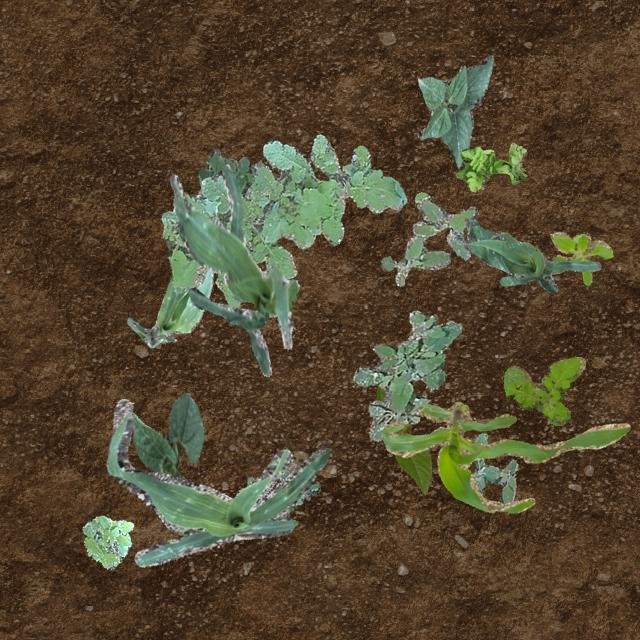crop: (105, 398, 328, 566), (168, 164, 298, 376), (382, 401, 630, 512), (464, 216, 600, 292), (417, 55, 492, 166), (125, 268, 212, 346), (130, 392, 203, 478), (376, 384, 430, 494)
weed: (160, 134, 406, 306), (352, 310, 460, 440), (381, 190, 476, 286), (502, 354, 584, 424), (198, 148, 290, 196), (548, 230, 612, 284), (455, 142, 527, 190), (471, 432, 516, 502), (81, 514, 132, 570), (246, 468, 320, 504)
